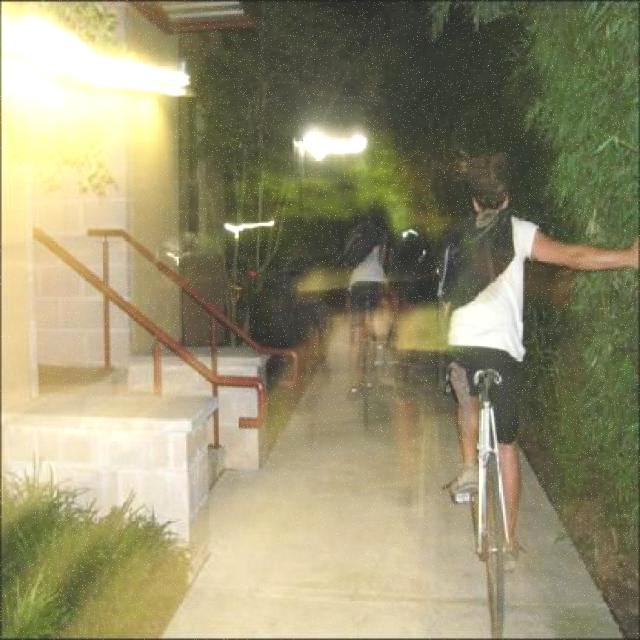stair: (206, 445, 226, 497)
